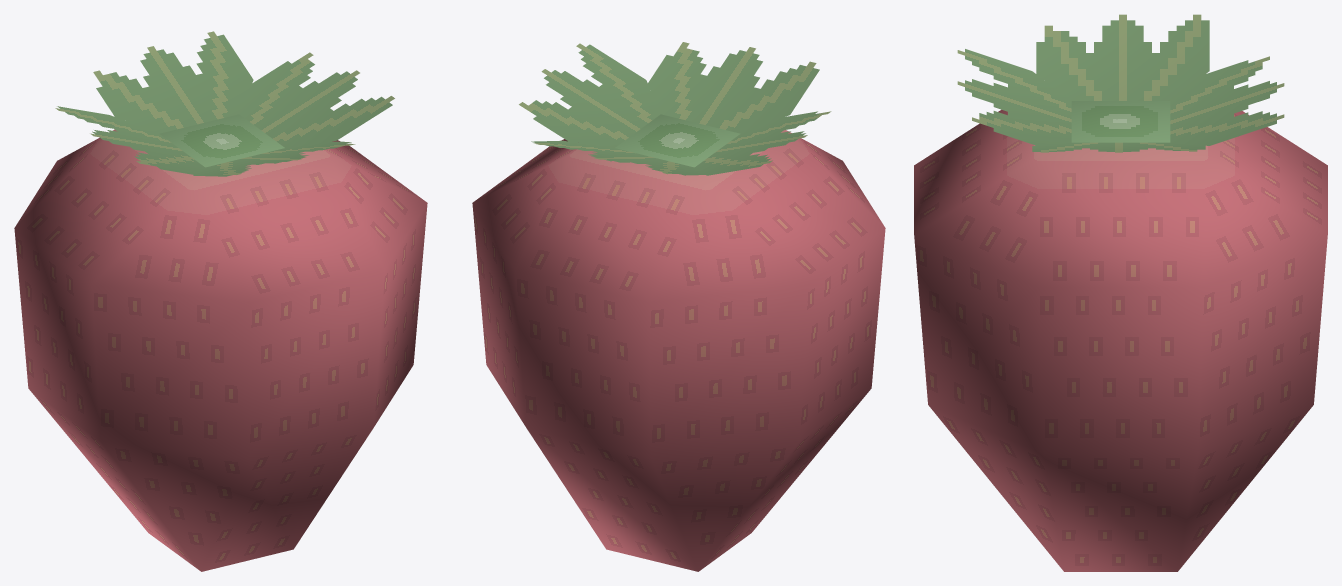
Rendered from 03e5_Strawberry.glb.
3 views of the same model, side by side, from view 1: azimuth 30°, elevation 25°; view 2: azimuth 150°, elevation 25°; view 3: azimuth 270°, elevation 25° (orthographic). The views are drawn at different scales.
Visible parts, largest first — view 1: part_0; view 2: part_0; view 3: part_0.
Part boxes in pixels (left/top/right/bottom): part_0: left=14, top=31, right=427, bottom=571; part_0: left=472, top=42, right=885, bottom=571; part_0: left=914, top=14, right=1327, bottom=571.
Size of the model in its own units: 0.0283 by 0.0353 by 0.0283.
1 material, 1 textured.
